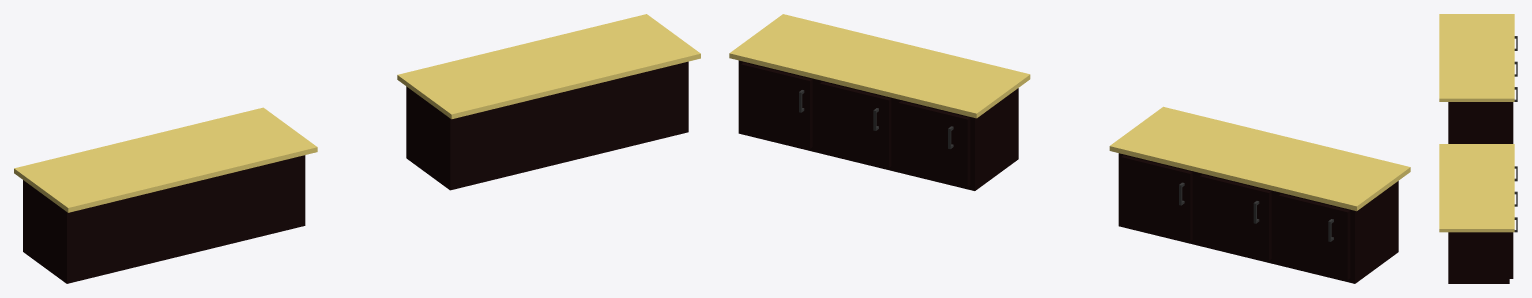
File: TABLE_PRP.fbx
The picture shows the model from 3 angles, left to right: view 1: azimuth 30°, elevation 25°; view 2: azimuth 150°, elevation 25°; view 3: azimuth 270°, elevation 25°; orthographic projection. The views are drawn at different scales.
Visible parts, largest first — view 1: TABLE_PRP_001, TABLE_PRP_002; view 2: TABLE_PRP_001, TABLE_PRP_002; view 3: TABLE_PRP_001, TABLE_PRP_002.
Part boxes in pixels (x1,y1,x2,y2): TABLE_PRP_001: [397, 14, 700, 190]; TABLE_PRP_002: [14, 107, 317, 283]; TABLE_PRP_001: [729, 14, 1030, 190]; TABLE_PRP_002: [1109, 106, 1410, 283]; TABLE_PRP_001: [1439, 144, 1517, 283]; TABLE_PRP_002: [1439, 14, 1517, 143].
Size of the model in its own units: 392 by 48.62 by 60.57.
